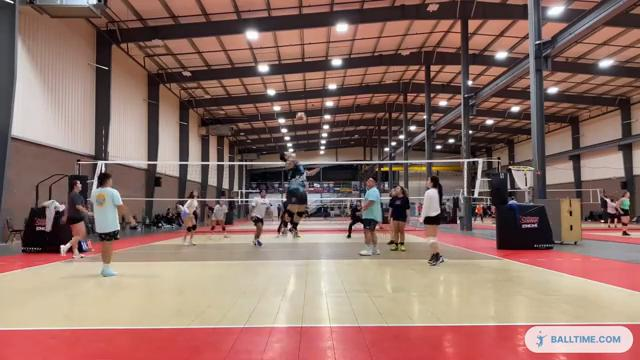Attack: (276, 145, 321, 240)
Player: (91, 172, 134, 276), (60, 180, 91, 258), (420, 176, 443, 265), (360, 176, 382, 256), (389, 185, 410, 250), (250, 190, 269, 245), (182, 190, 197, 244), (210, 200, 227, 237), (347, 200, 363, 237), (277, 210, 287, 236)
ball: (296, 113, 305, 119)
